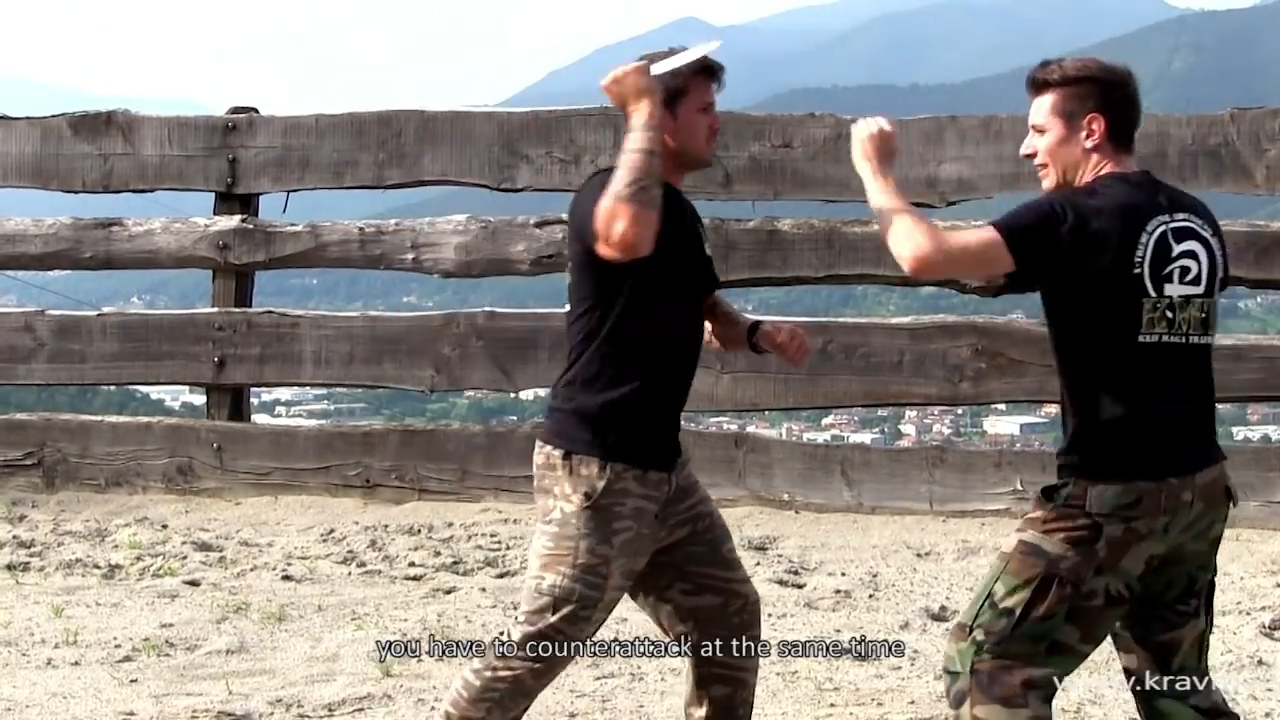knife: (599, 26, 730, 104)
